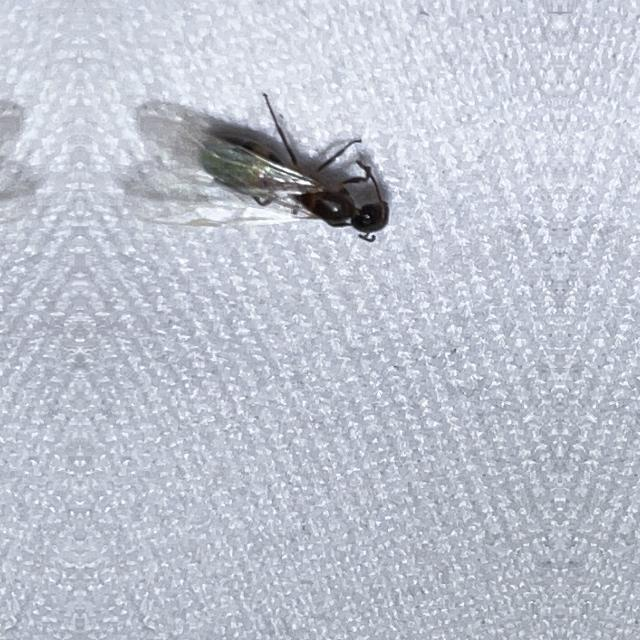Colobopsis: (186, 97, 404, 273)
